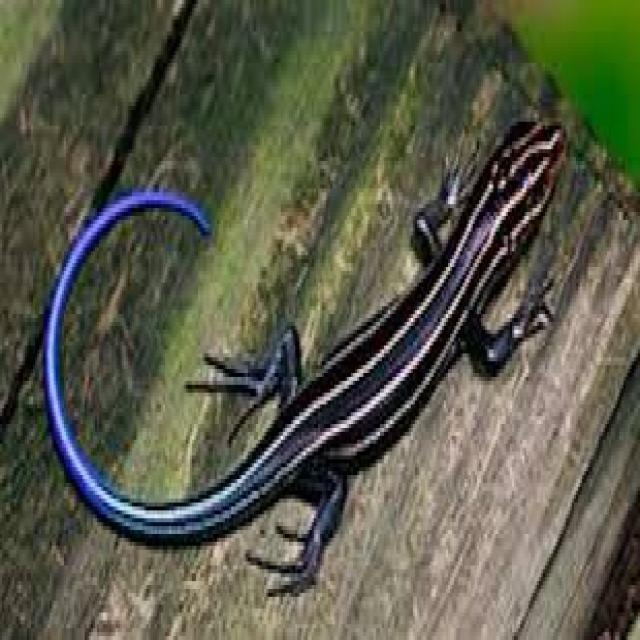Lizard: (40, 106, 576, 598)
